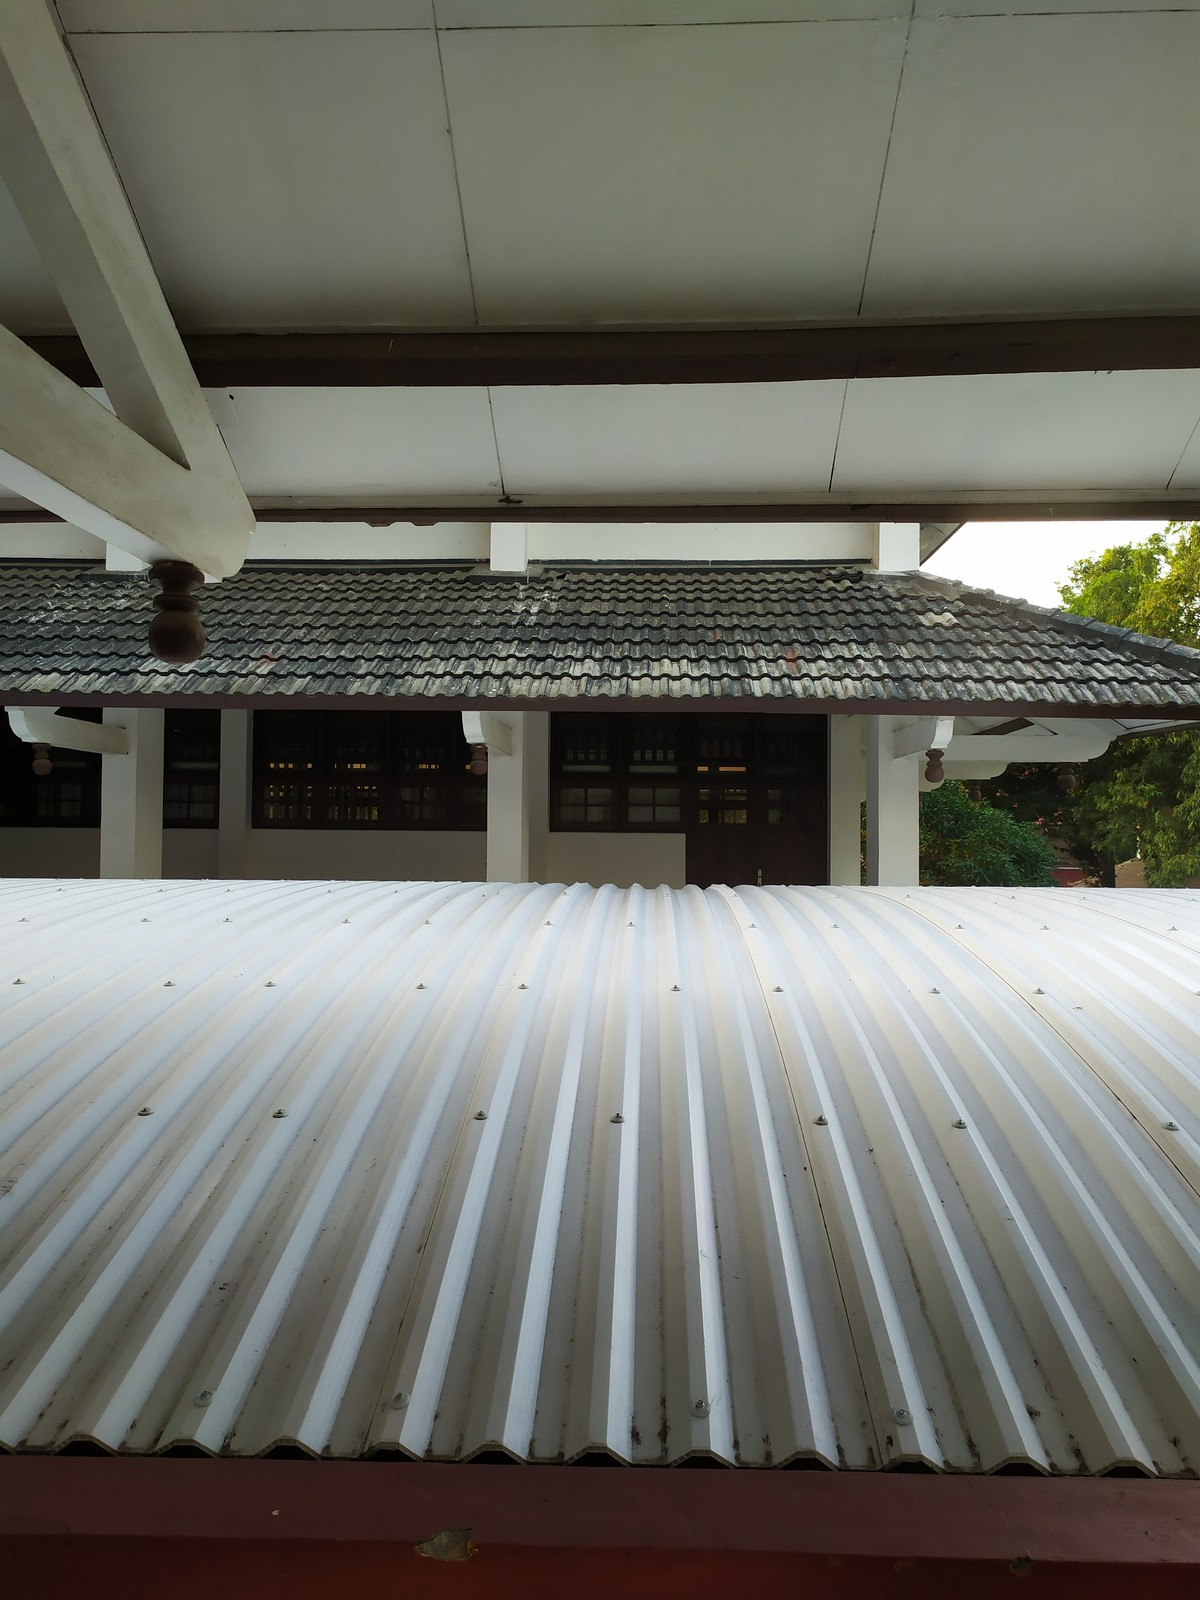concrete beam: (13, 333, 175, 567)
concrete column: (89, 703, 173, 874), (480, 708, 560, 881), (856, 712, 929, 884)
